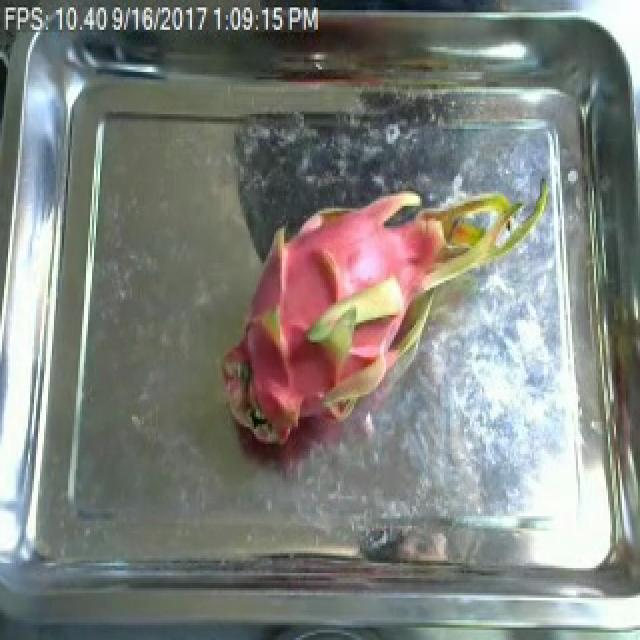fruit: (220, 144, 560, 469)
